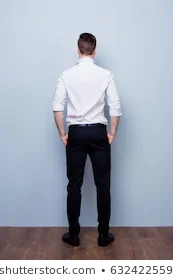F_belt: (67, 122, 109, 129)
F_dress pants: (63, 123, 112, 231)
F_shirt: (50, 55, 124, 123)
